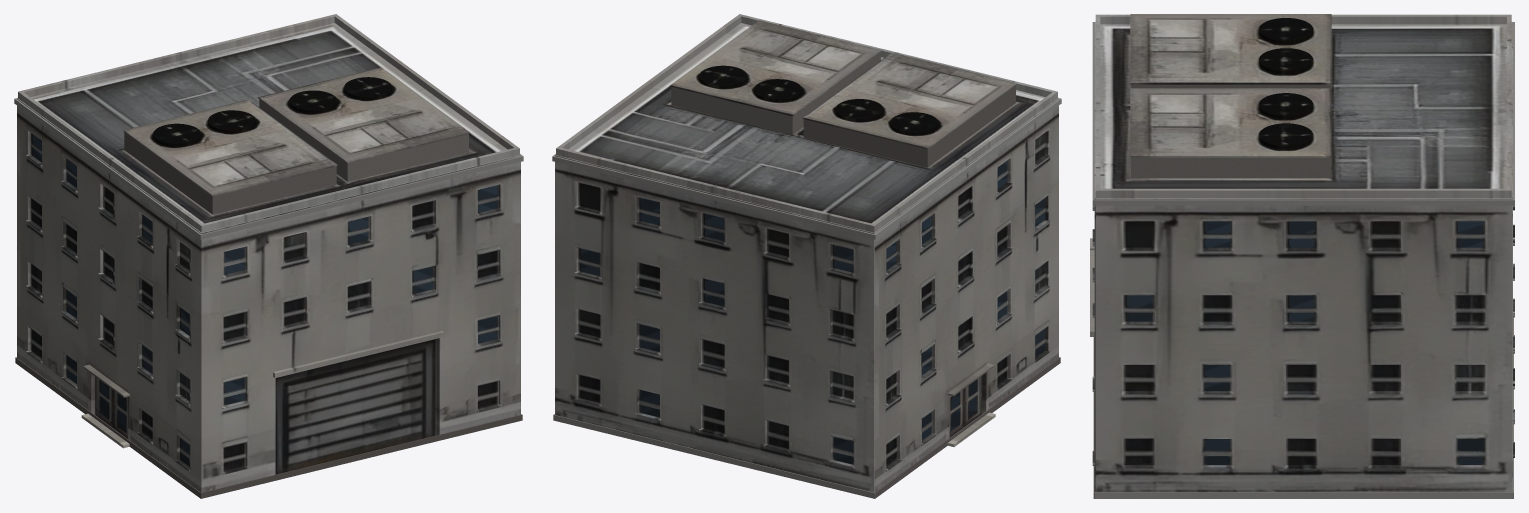
Rendered from city4storyb_cad.glb.
The picture shows the model from 3 angles, left to right: view 1: azimuth 30°, elevation 25°; view 2: azimuth 150°, elevation 25°; view 3: azimuth 270°, elevation 25°; orthographic projection. The views are drawn at different scales.
Parts seen in each view (by area): view 1: City4Story_; view 2: City4Story_; view 3: City4Story_.
Boxes of the visible parts, x1,y1,x2,y2 form: City4Story_: [14, 14, 523, 498]; City4Story_: [552, 14, 1061, 498]; City4Story_: [1090, 14, 1514, 498].
Bounding box in the file's own units: 18.4 × 15.4 × 18.19.
Materials: 1 (1 with a texture image).
